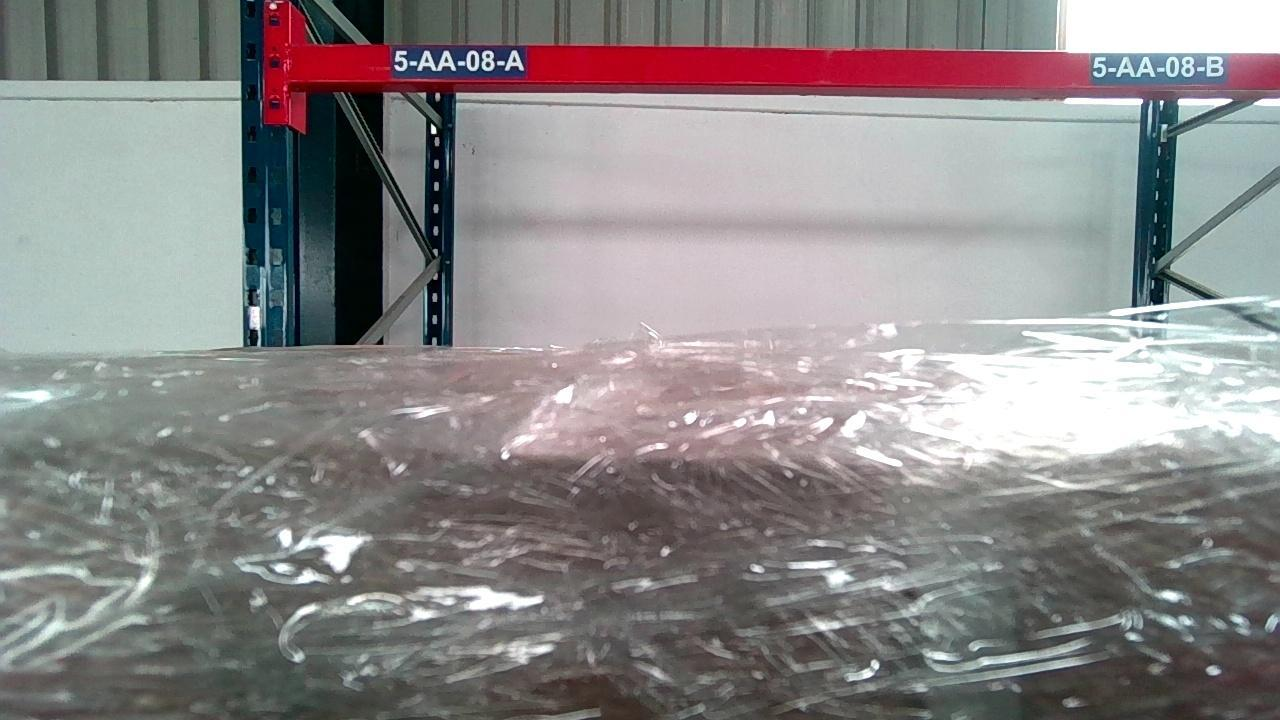h_rack: (307, 42, 1275, 83)
